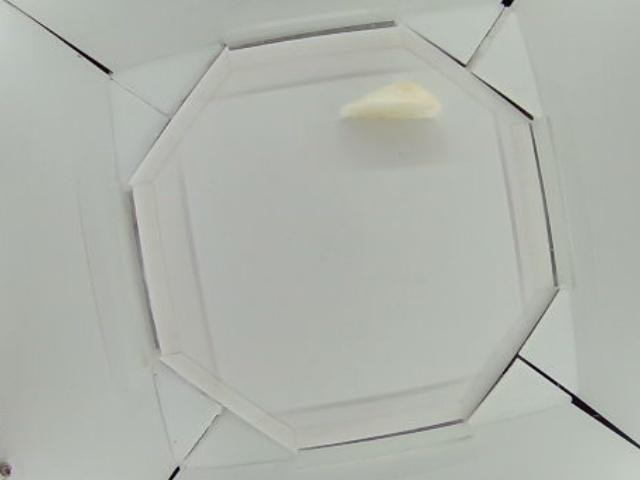Mooli: (340, 79, 439, 122)
